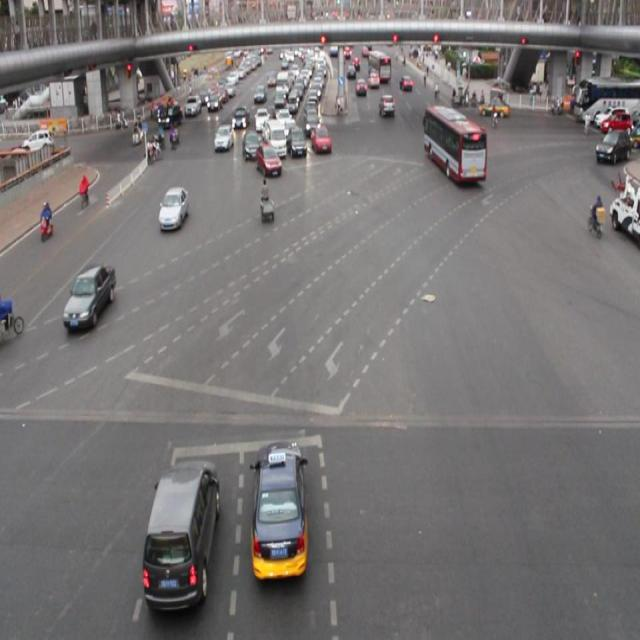car: (251, 439, 308, 579), (64, 263, 115, 331), (158, 185, 189, 231), (256, 143, 280, 177), (287, 126, 307, 161), (310, 124, 331, 156), (242, 130, 262, 162), (214, 123, 233, 154), (232, 106, 248, 129)
truck: (142, 459, 220, 609), (263, 120, 286, 160)
van: (424, 106, 484, 182)
